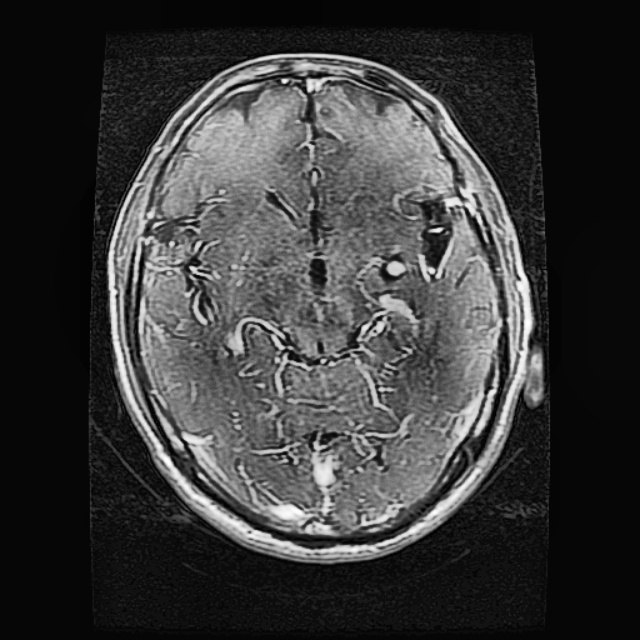Glioma: (382, 253, 407, 279)
